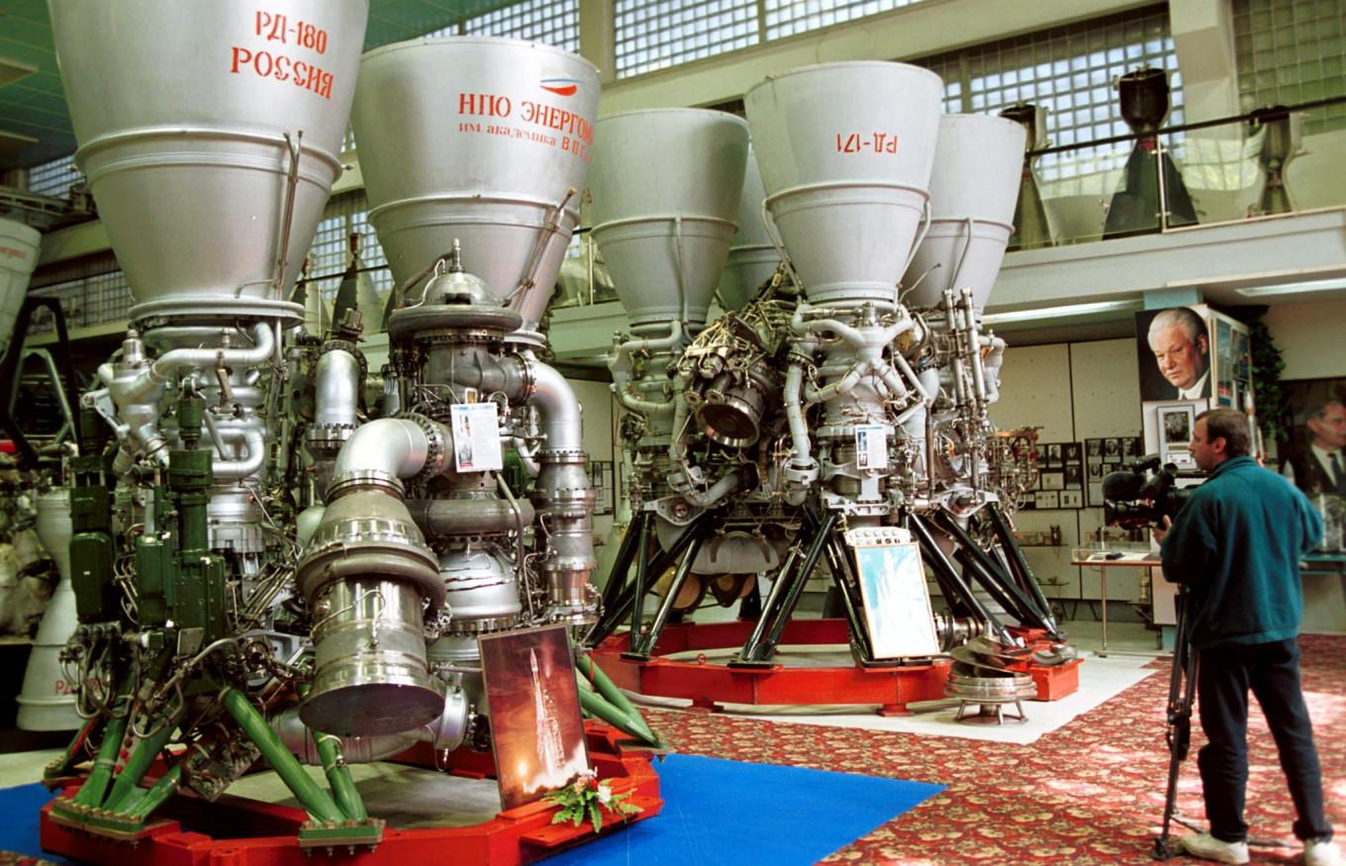thruster: (40, 0, 377, 301), (338, 34, 607, 333), (737, 57, 950, 303), (584, 105, 755, 325), (894, 112, 1034, 321), (13, 571, 113, 734), (1097, 137, 1202, 243), (0, 213, 46, 367), (994, 174, 1058, 254), (1251, 182, 1297, 222)
